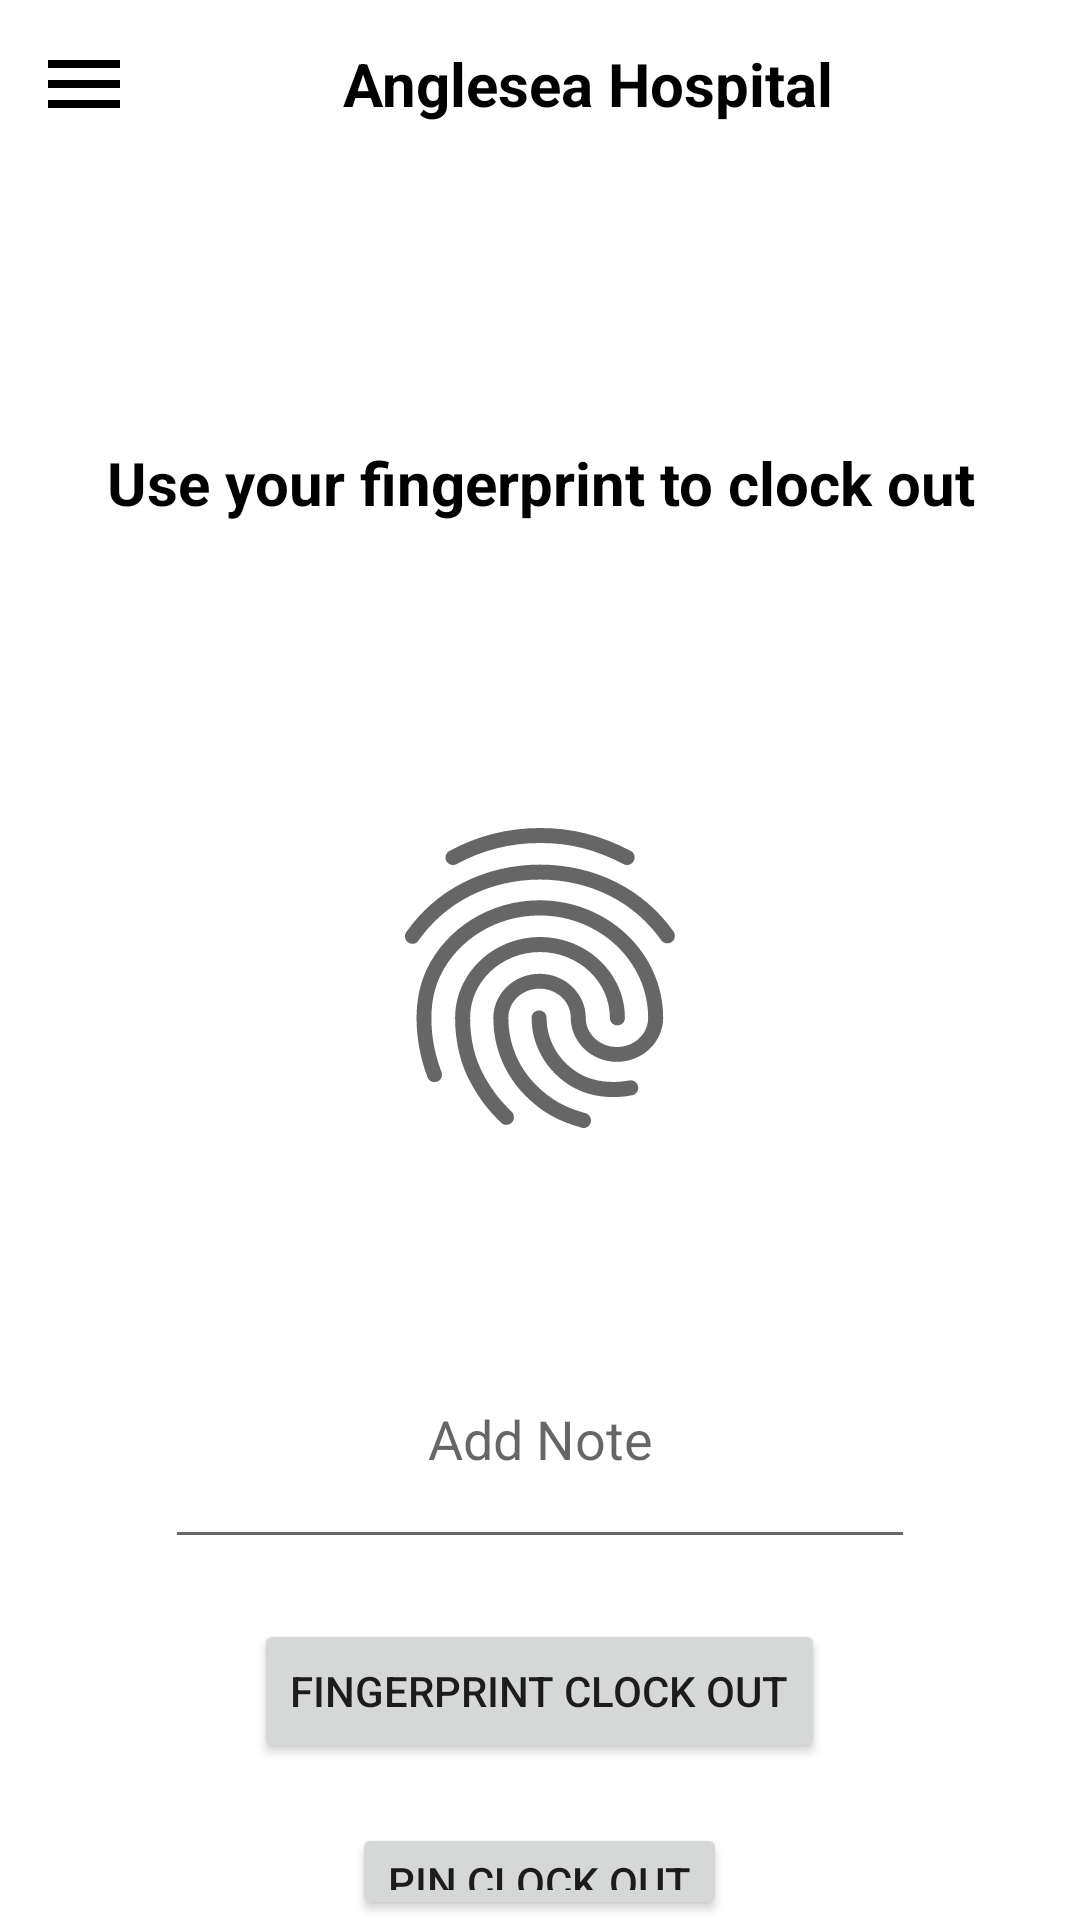

Icon bounding boxes for this 1080px×1920px phone screenshot, format bbox(x1, y1, x2, y2):
menu: bbox(48, 60, 120, 108)
